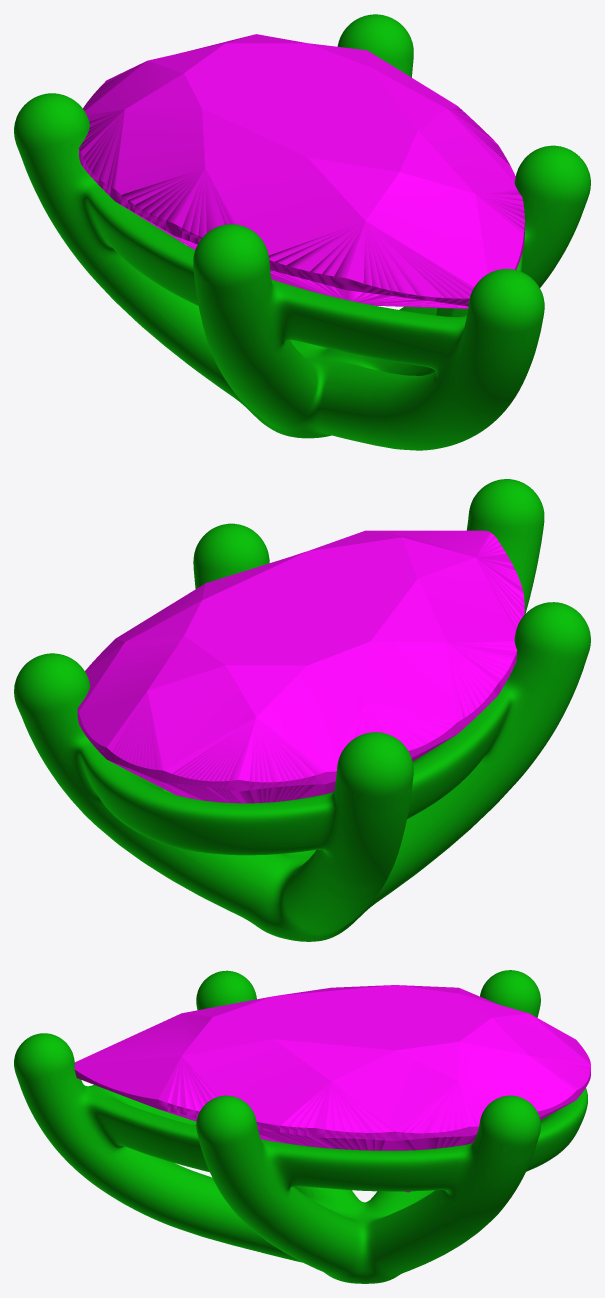
3 views of the same model, one above another, from view 1: azimuth 30°, elevation 25°; view 2: azimuth 150°, elevation 25°; view 3: azimuth 270°, elevation 25° (orthographic). The views are drawn at different scales.
Visible parts, largest first — view 1: Diamond_Pear, Metal01; view 2: Diamond_Pear, Metal01; view 3: Metal01, Diamond_Pear.
Boxes of the visible parts, x1,y1,x2,y2 form: Diamond_Pear: (78,34,524,308); Metal01: (14,14,590,450); Diamond_Pear: (77,530,524,803); Metal01: (14,479,590,941); Metal01: (14,970,587,1283); Diamond_Pear: (74,985,590,1192).
Bounding box in the file's own units: 8.95 × 7.02 × 14.42.
